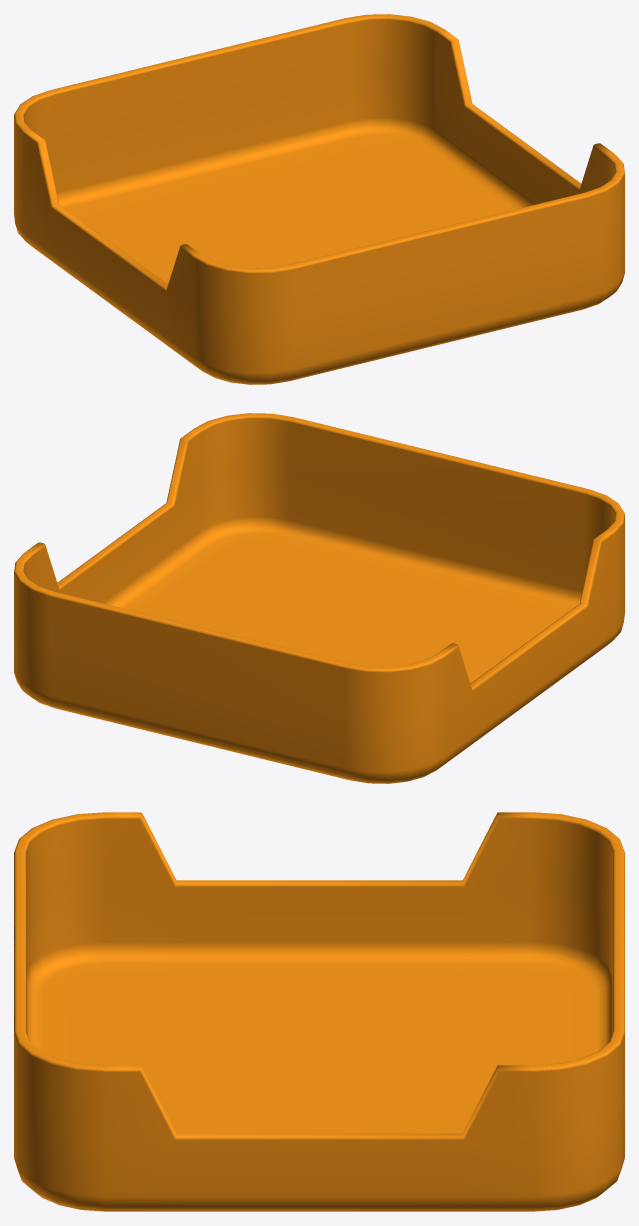
The model's file is yellow_plate.fbx.
3 renders of one model, top to bottom at view 1: azimuth 30°, elevation 25°; view 2: azimuth 150°, elevation 25°; view 3: azimuth 270°, elevation 25°, orthographic. The views are drawn at different scales.
Parts seen in each view (by area): view 1: tray_02_4; view 2: tray_02_4; view 3: tray_02_4.
Boxes of the visible parts, x1=… form: tray_02_4: x1=14, y1=14, x2=624, y2=384; tray_02_4: x1=14, y1=413, x2=624, y2=783; tray_02_4: x1=14, y1=812, x2=624, y2=1211.
Bounding box in the file's own units: 178 × 48.58 × 178.
